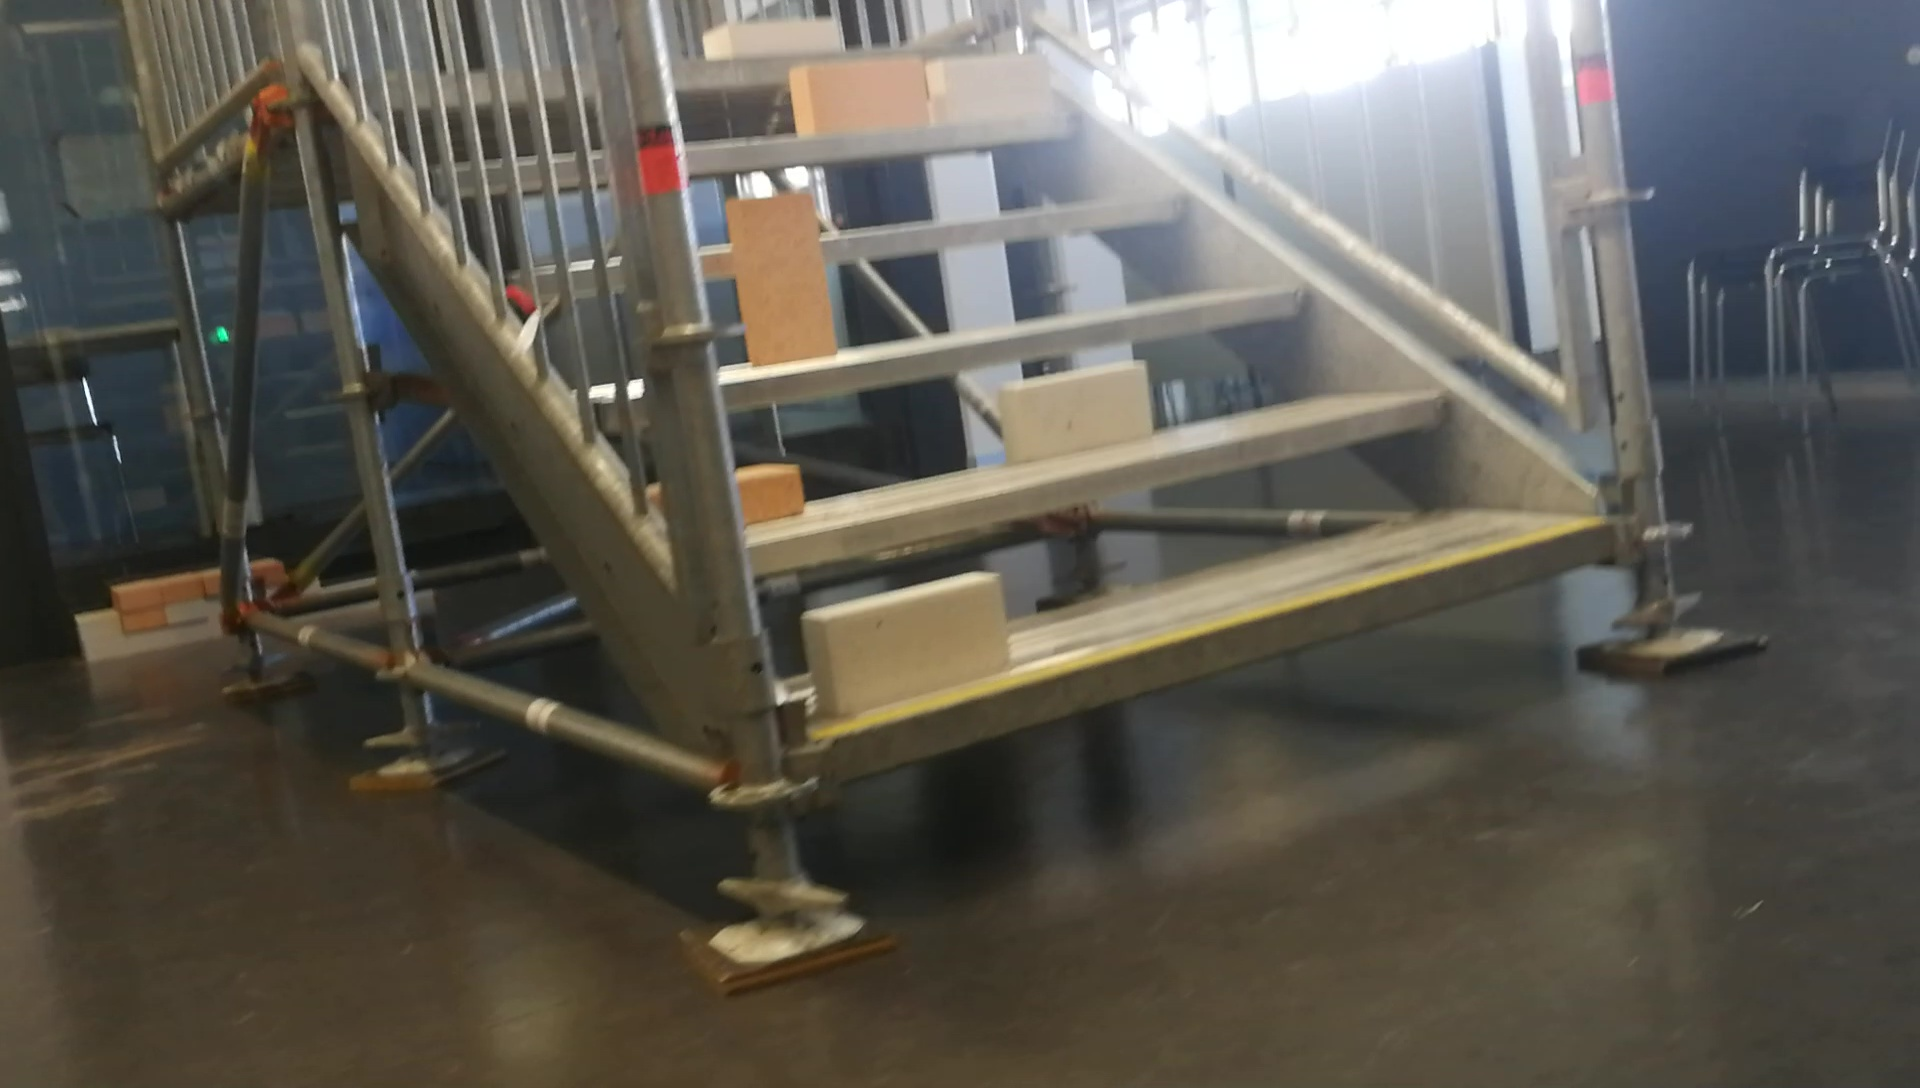brick: (803, 572, 1004, 717), (725, 189, 835, 367), (1002, 363, 1145, 462), (790, 59, 924, 131), (930, 53, 1046, 123), (704, 18, 840, 55), (735, 462, 799, 525)
edge: (832, 520, 1613, 781), (745, 390, 1443, 568), (720, 281, 1305, 405), (702, 193, 1185, 284), (684, 111, 1075, 173), (675, 47, 992, 87)
stairs: (670, 5, 1767, 996)
